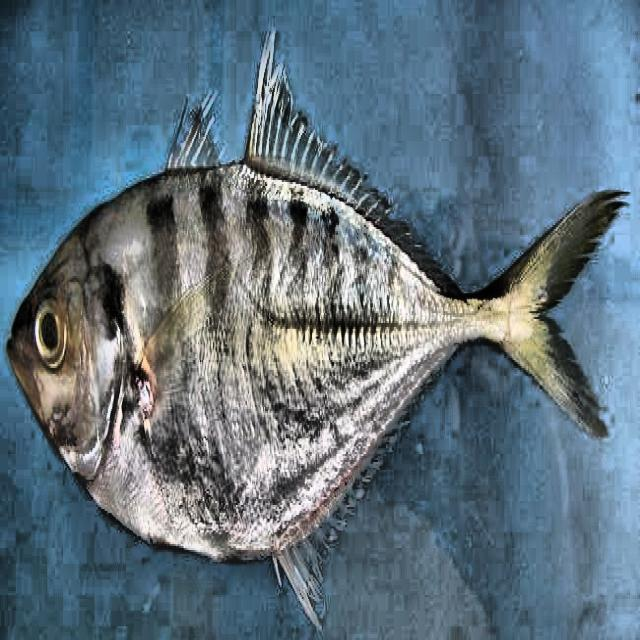fish: (6, 27, 631, 630)
